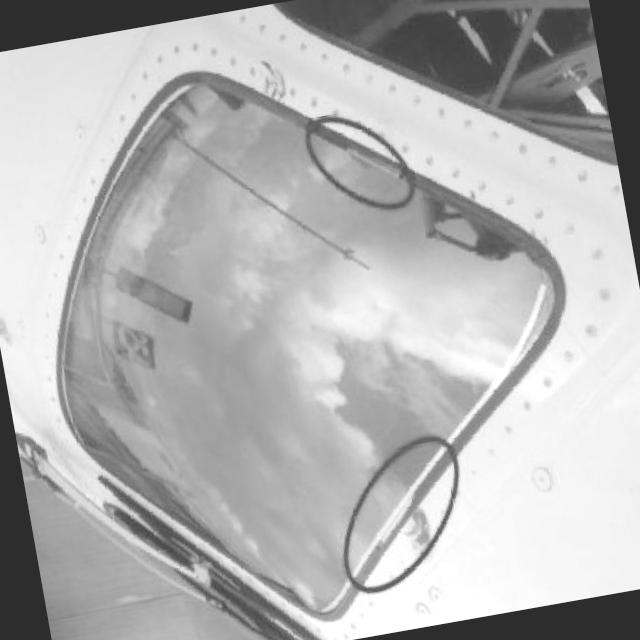crack: (258, 53, 288, 104)
